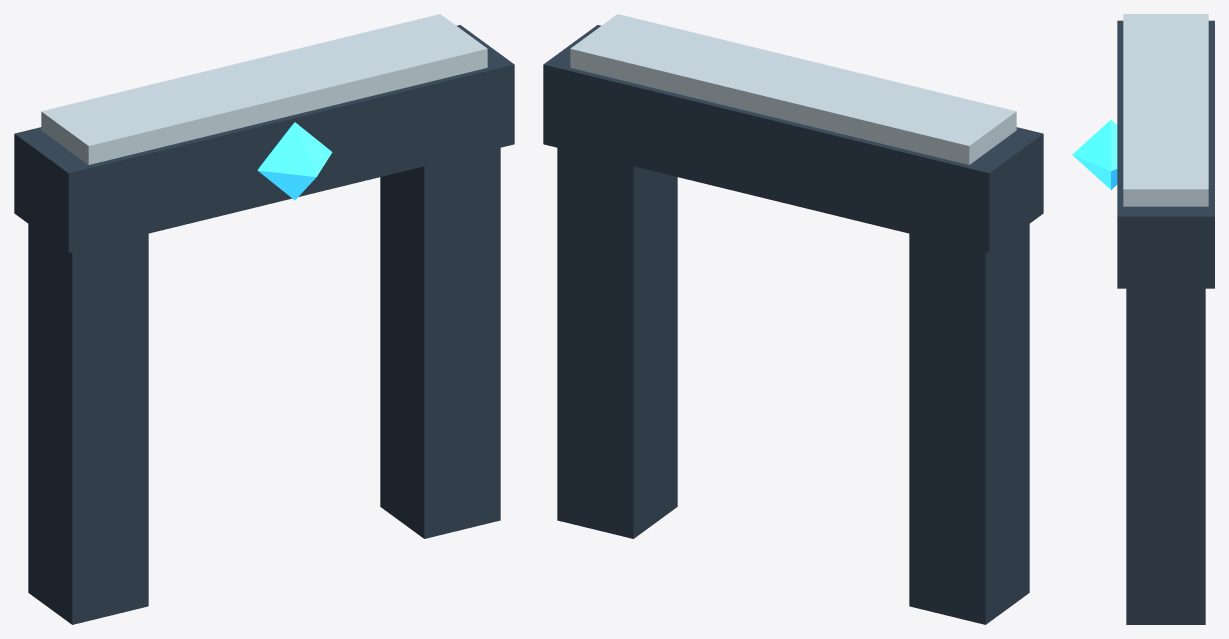
File: temple_gate_arch.glb
The picture shows the model from 3 angles, left to right: view 1: azimuth 30°, elevation 25°; view 2: azimuth 150°, elevation 25°; view 3: azimuth 270°, elevation 25°; orthographic projection. The views are drawn at different scales.
Size of the model in its own units: 3.8 by 3.88 by 1.17.
